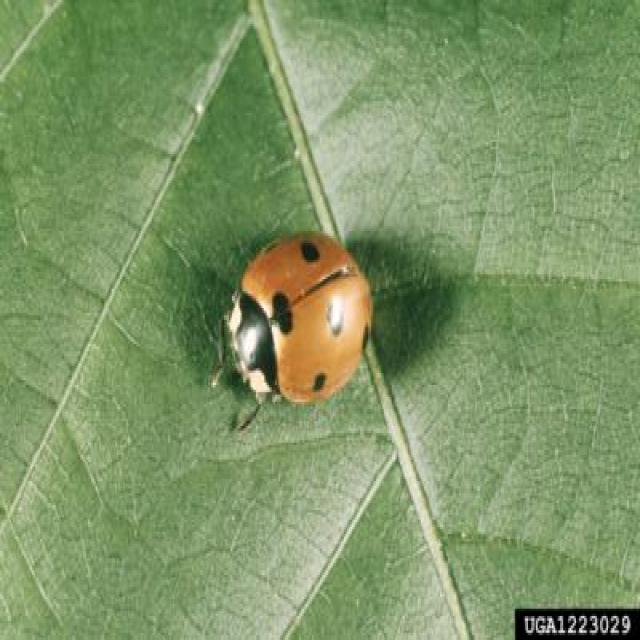body: (225, 223, 371, 407)
insect: (212, 222, 375, 438)
legs: (233, 389, 267, 439)
wings: (242, 230, 370, 403)
